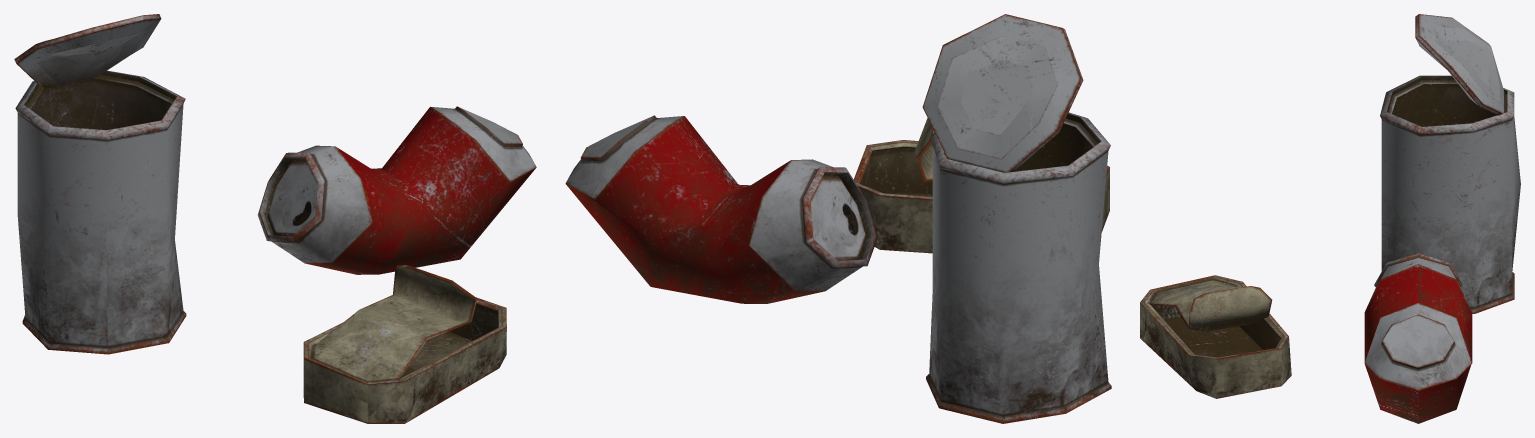
File: Metal.glb
3 views of the same model, side by side, from view 1: azimuth 30°, elevation 25°; view 2: azimuth 150°, elevation 25°; view 3: azimuth 270°, elevation 25° (orthographic). The views are drawn at different scales.
Parts seen in each view (by area): view 1: Can_01_GEO_2, Can_03_GEO_0, Can_02_GEO_1; view 2: Can_01_GEO_2, Can_03_GEO_0, Can_02_GEO_1; view 3: Can_01_GEO_2, Can_03_GEO_0, Can_02_GEO_1.
Part boxes in pixels (x1,y1,x2,y2): Can_01_GEO_2: [14, 14, 186, 354]; Can_03_GEO_0: [257, 106, 536, 274]; Can_02_GEO_1: [303, 264, 506, 423]; Can_01_GEO_2: [922, 14, 1111, 423]; Can_03_GEO_0: [565, 115, 877, 303]; Can_02_GEO_1: [853, 118, 1109, 253]; Can_01_GEO_2: [1380, 14, 1520, 313]; Can_03_GEO_0: [1364, 253, 1472, 423]; Can_02_GEO_1: [1140, 275, 1291, 398].
Size of the model in its own units: 0.358 by 0.2218 by 0.2907.
1 material, 1 textured.
